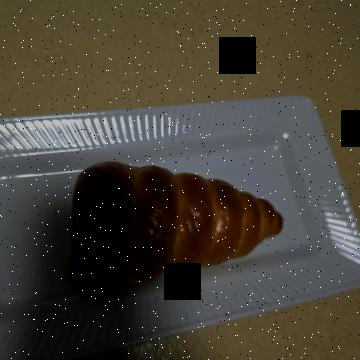cream horn: (150, 56, 320, 300)
